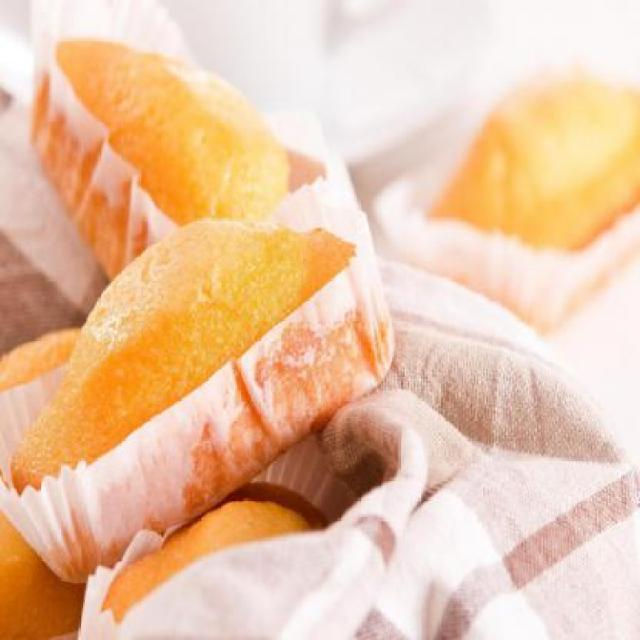Merendine packaged: (11, 191, 394, 560), (25, 12, 332, 320)
